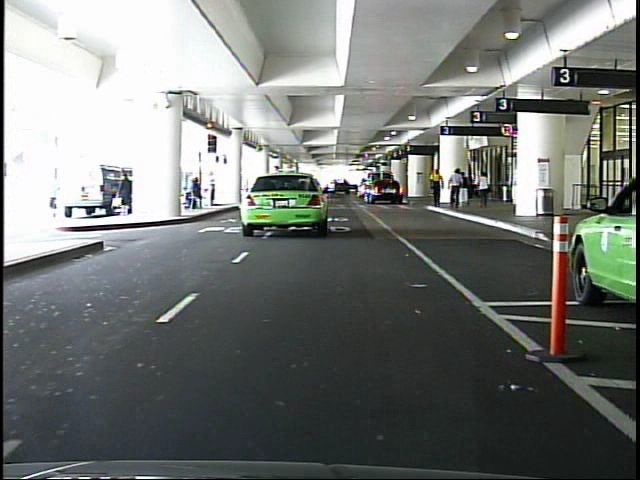person: (43, 163, 67, 224), (119, 169, 141, 218), (473, 168, 494, 217), (447, 163, 466, 211), (427, 166, 447, 211), (206, 170, 220, 213), (459, 171, 472, 212)
